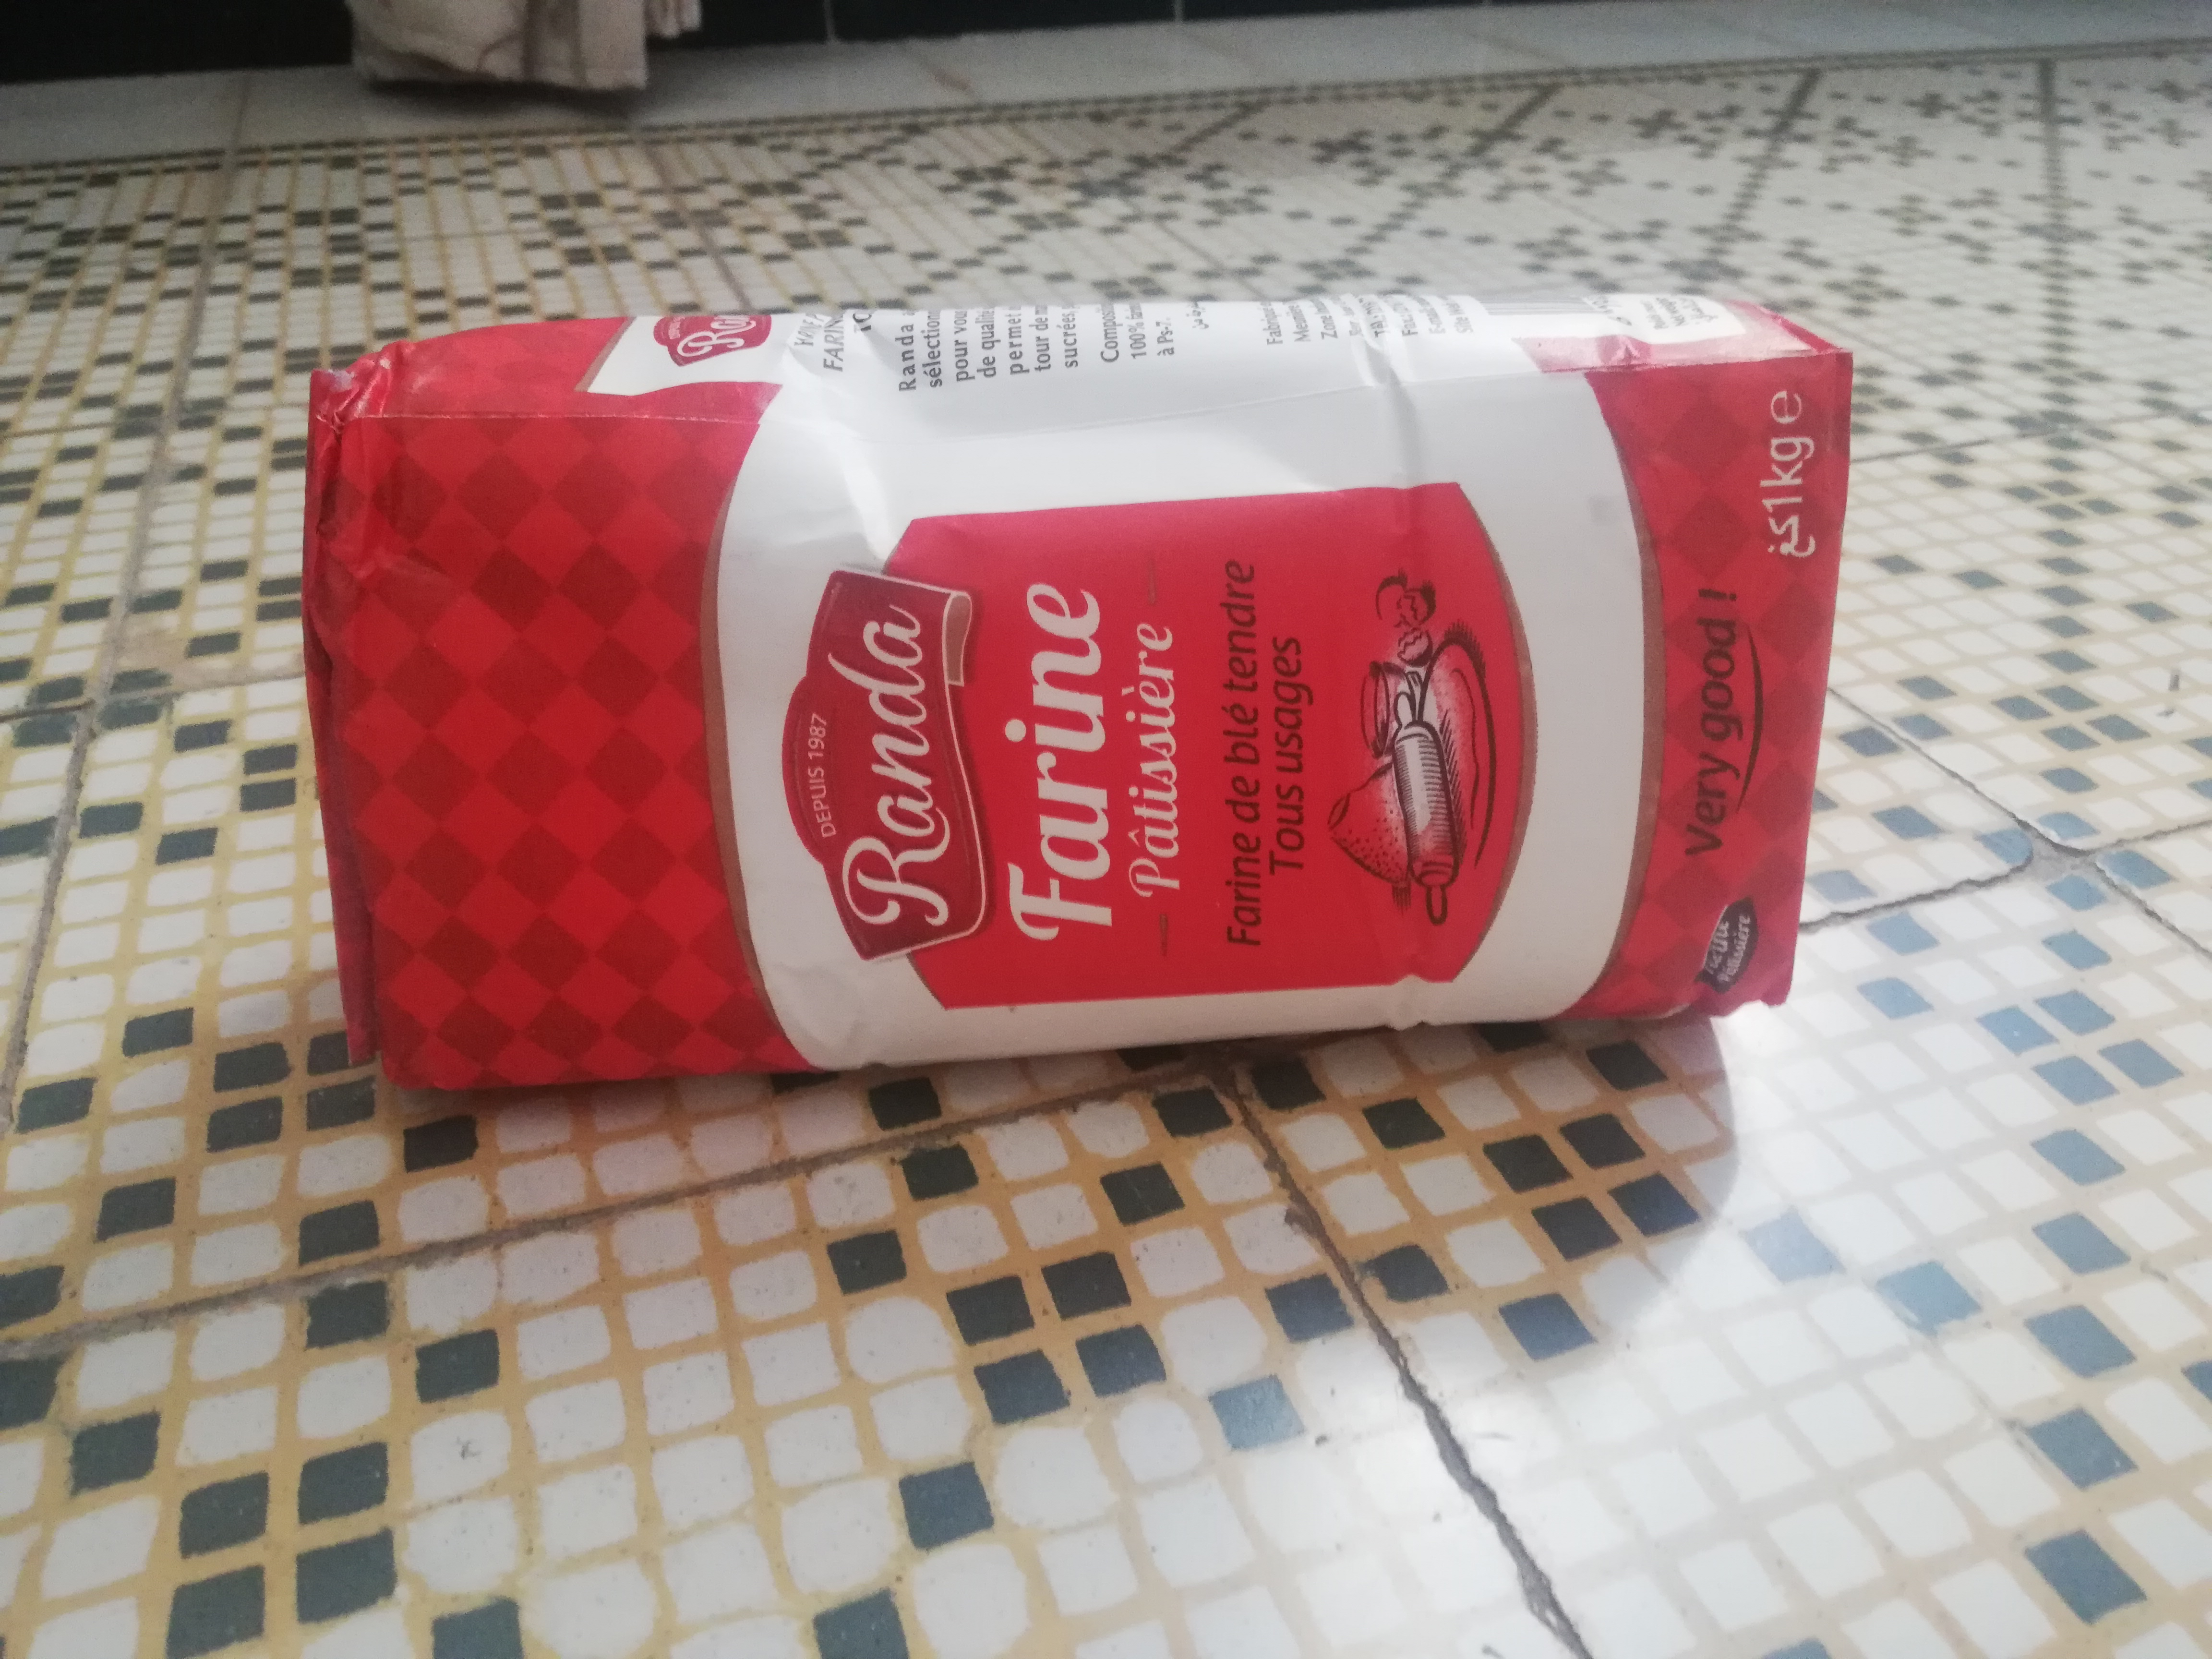Farine Randa: (305, 307, 1857, 1096)
